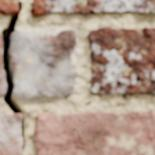brick: (36, 111, 154, 154), (89, 27, 154, 95), (64, 0, 154, 14), (0, 115, 22, 154), (31, 0, 68, 16), (0, 0, 18, 15)
broken_brick: (12, 30, 76, 98), (0, 55, 5, 98)
crack: (0, 2, 25, 152), (61, 0, 79, 13)
